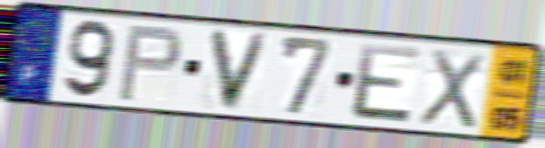7: (279, 33, 337, 118)
9: (60, 19, 117, 101)
E: (349, 40, 424, 127)
P: (115, 23, 185, 104)
V: (205, 26, 274, 115)
X: (415, 45, 487, 132)
